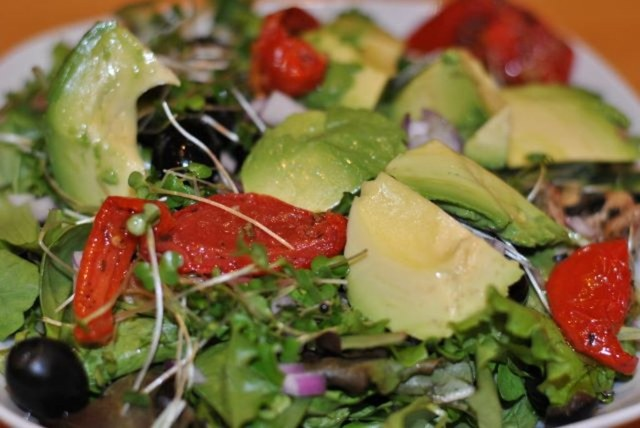tomato: (138, 192, 347, 277), (402, 0, 573, 87), (73, 196, 173, 344), (546, 239, 638, 375), (250, 5, 326, 97)
